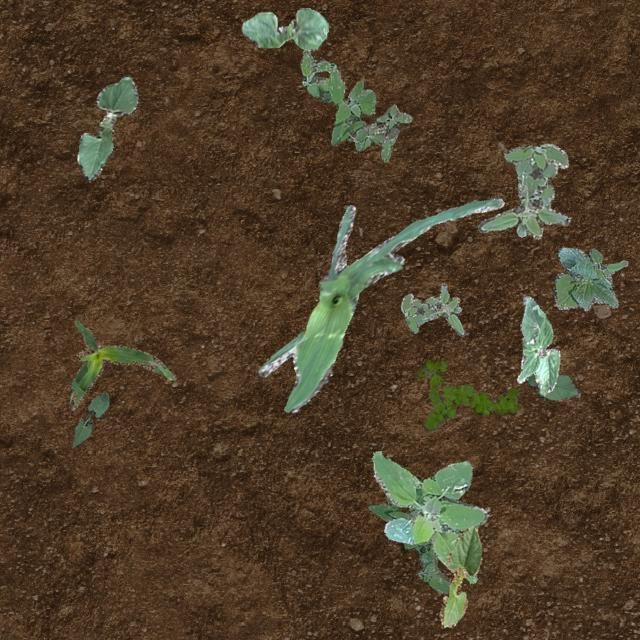crop: (256, 198, 502, 412), (70, 318, 176, 409), (76, 75, 136, 178), (554, 247, 626, 310), (516, 294, 560, 394), (438, 524, 481, 626), (240, 6, 328, 49), (72, 392, 108, 446), (524, 372, 580, 399)
weed: (370, 450, 488, 582), (298, 48, 412, 160), (476, 142, 570, 238), (366, 496, 449, 594), (414, 358, 518, 432), (400, 282, 464, 336)
